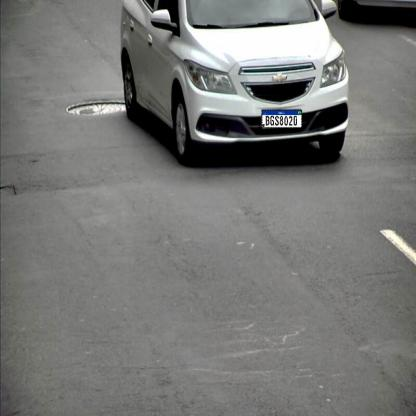PlacaM: (262, 110, 302, 128)
